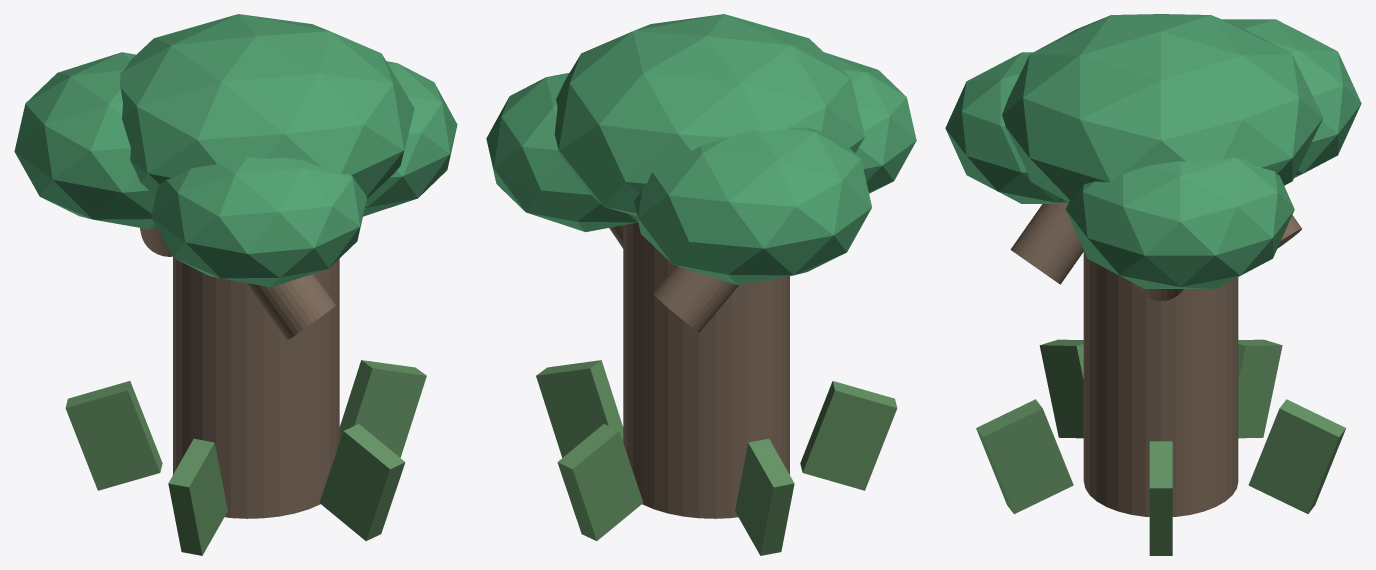
The model's file is nature_colossal_tree_ancient.glb.
The picture shows the model from 3 angles, left to right: view 1: azimuth 30°, elevation 25°; view 2: azimuth 150°, elevation 25°; view 3: azimuth 270°, elevation 25°; orthographic projection.
Visible parts, largest first — view 1: Canopy_Cluster_1, Tree_Trunk, Canopy_Cluster_4, Canopy_Cluster_3, Tabular_Root_3, Tabular_Root_5, Canopy_Cluster_2, Tabular_Root_1, Tabular_Root_4, Great_Branch_3, Great_Branch_2; view 2: Canopy_Cluster_1, Tree_Trunk, Canopy_Cluster_3, Canopy_Cluster_2, Tabular_Root_4, Tabular_Root_2, Canopy_Cluster_4, Tabular_Root_1, Tabular_Root_3, Great_Branch_2; view 3: Canopy_Cluster_1, Tree_Trunk, Canopy_Cluster_2, Canopy_Cluster_4, Tabular_Root_2, Tabular_Root_5, Canopy_Cluster_3, Great_Branch_3, Tabular_Root_3, Tabular_Root_4, Tabular_Root_1.
Part boxes in pixels (box(x1,y1,x2,y2)): Canopy_Cluster_1: box(120, 14, 414, 198); Tree_Trunk: box(173, 257, 339, 518); Canopy_Cluster_4: box(151, 157, 366, 287); Canopy_Cluster_3: box(14, 52, 155, 229); Tabular_Root_3: box(65, 381, 162, 490); Tabular_Root_5: box(319, 424, 405, 540); Canopy_Cluster_2: box(363, 61, 457, 216); Tabular_Root_1: box(339, 360, 426, 457); Tabular_Root_4: box(168, 438, 227, 555); Great_Branch_3: box(245, 274, 335, 340); Great_Branch_2: box(140, 227, 172, 256); Canopy_Cluster_1: box(554, 14, 864, 216); Tree_Trunk: box(623, 222, 789, 518); Canopy_Cluster_3: box(634, 127, 871, 284); Canopy_Cluster_2: box(486, 72, 637, 232); Tabular_Root_4: box(800, 381, 897, 490); Tabular_Root_2: box(557, 424, 643, 540); Canopy_Cluster_4: box(824, 52, 916, 193); Tabular_Root_1: box(536, 360, 623, 457); Tabular_Root_3: box(735, 438, 794, 555); Great_Branch_2: box(652, 265, 738, 332); Canopy_Cluster_1: box(1002, 14, 1323, 202); Tree_Trunk: box(1083, 250, 1238, 516); Canopy_Cluster_2: box(1065, 157, 1294, 288); Canopy_Cluster_4: box(945, 52, 1068, 203); Tabular_Root_2: box(1248, 399, 1345, 513); Tabular_Root_5: box(976, 399, 1073, 514); Canopy_Cluster_3: box(1222, 19, 1361, 177); Great_Branch_3: box(1010, 204, 1083, 284); Tabular_Root_3: box(1238, 339, 1282, 438); Tabular_Root_4: box(1039, 339, 1083, 438); Tabular_Root_1: box(1149, 441, 1172, 555).
Bounding box in the file's own units: 22.89 × 26.45 × 21.8.
